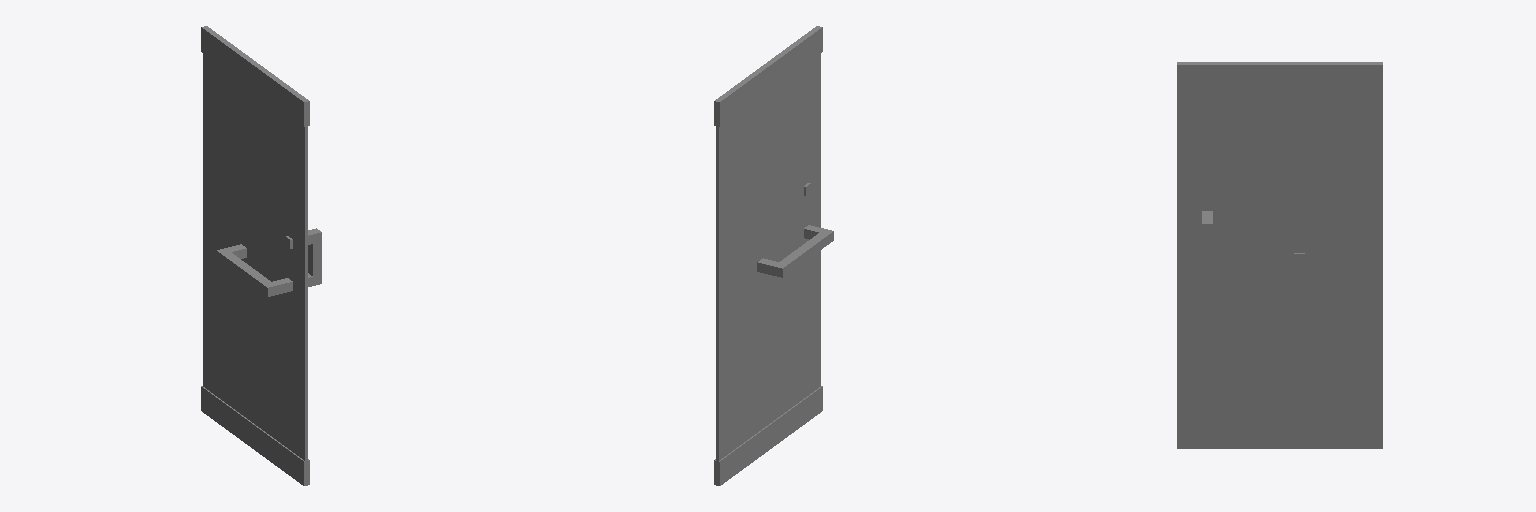
The model's file is Terrace_door_right.obj.
3 views of the same model, side by side, from view 1: azimuth 30°, elevation 25°; view 2: azimuth 150°, elevation 25°; view 3: azimuth 270°, elevation 25° (orthographic).
Visible parts, largest first — view 1: ????_?; view 2: ????_?; view 3: ????_?.
Part boxes in pixels (x1,y1,x2,y2): ????_?: (201,26,321,485); ????_?: (714,26,833,485); ????_?: (1177,62,1382,448).
Bounding box in the file's own units: 0.3649 × 2.46 × 1.19.